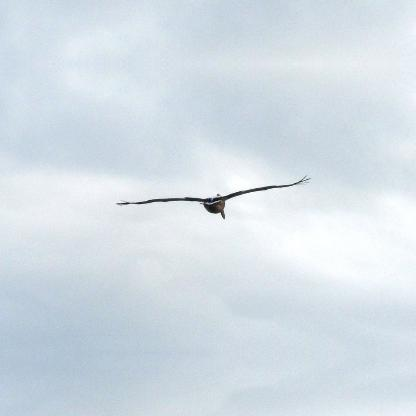Bird: (120, 173, 304, 223)
